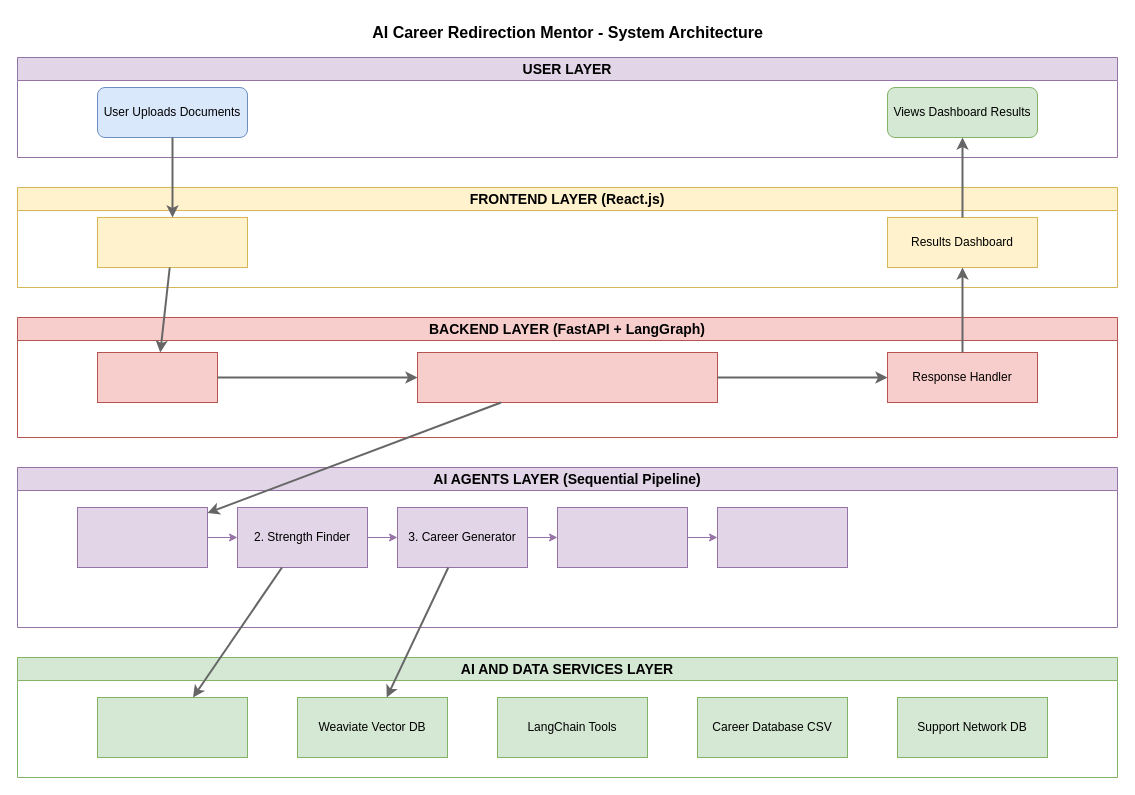
The diagram is 1135 pixels wide and 795 high, and some of its shapes have lost their labels. Each missing label, with the centre of its shape:
"1. Rejection Analyzer" belongs at point 142,537.
"4. Upskill Planner" belongs at point 622,537.
"5. Support Matcher" belongs at point 782,537.
"API Endpoint" belongs at point 157,377.
"File Upload Component" belongs at point 172,242.
"Google Gemini LLM" belongs at point 172,727.
"LangGraph Workflow Engine" belongs at point 567,377.
